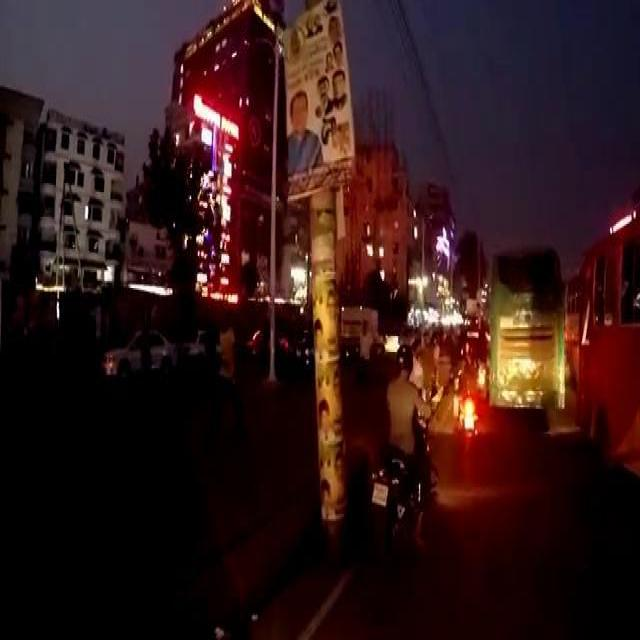bus: (574, 213, 638, 473), (486, 239, 566, 408), (563, 268, 577, 380)
car: (99, 327, 177, 377)
motorbike: (369, 412, 439, 580), (457, 393, 479, 478), (475, 357, 487, 400)
